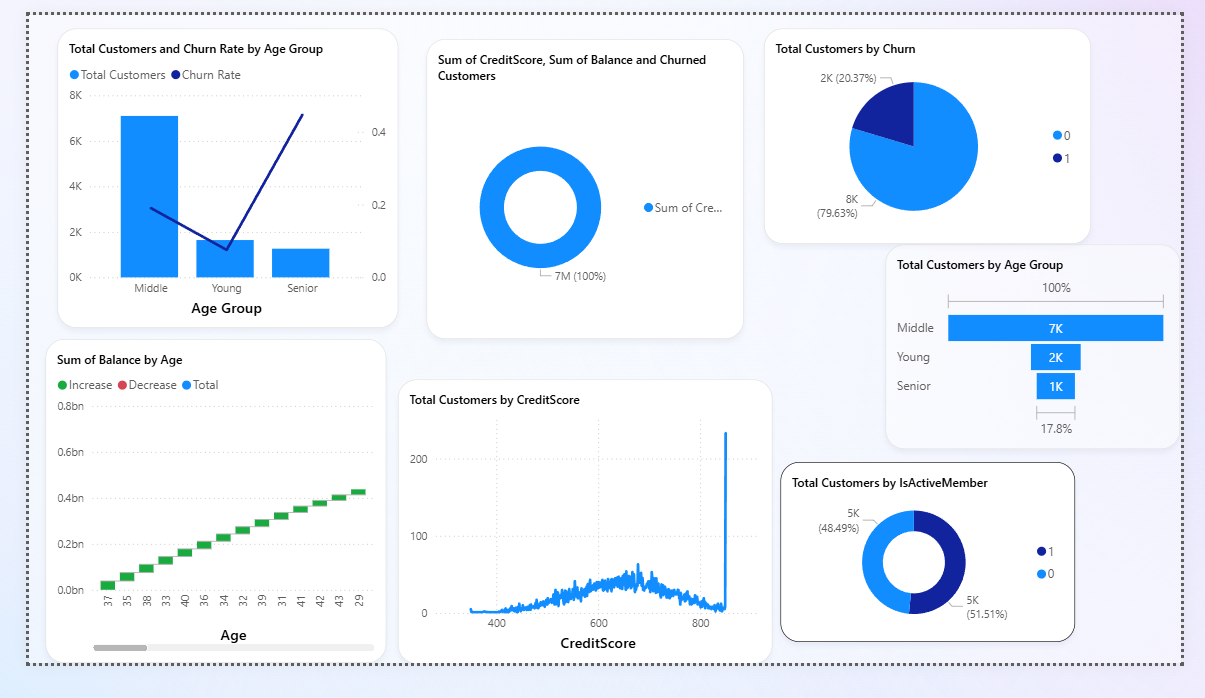

The dashboard page shown, as its layout file describes it:
{"tool":"powerbi","page":{"name":"Page 2","canvas":[1280,720],"ordinal":1},"visuals":[{"type":"lineStackedColumnComboChart","fields":{"Category":["Churn_Modelling.Age Group"],"Y":["Churn_Modelling.Total Customers"],"Y2":["Churn_Modelling.Churn Rate"]},"box":[31.4,15.7,378.6,332.9],"z":0},{"type":"waterfallChart","fields":{"Category":["Churn_Modelling.Age"],"Y":["Sum(Churn_Modelling.Balance)"]},"box":[18.6,360,378.6,360],"z":1000},{"type":"donutChart","fields":{"Y":["Sum(Churn_Modelling.CreditScore)","Sum(Churn_Modelling.Balance)","Churn_Modelling.Churned Customers"]},"box":[442.1,27.3,352.8,333.1],"z":2000},{"type":"lineChart","fields":{"Category":["Churn_Modelling.CreditScore"],"Y":["Churn_Modelling.Total Customers"]},"box":[410,404.3,415.7,315.7],"z":3000},{"type":"pieChart","fields":{"Category":["Churn_Modelling.Churn"],"Y":["Churn_Modelling.Total Customers"]},"box":[816.2,15.1,363.4,239.2],"z":4000},{"type":"funnel","fields":{"Category":["Churn_Modelling.Age Group"],"Y":["Churn_Modelling.Total Customers"]},"box":[952.4,254.4,327.1,227.1],"z":5000},{"type":"donutChart","fields":{"Category":["Churn_Modelling.IsActiveMember"],"Y":["Churn_Modelling.Total Customers"]},"box":[834.3,496.7,327.1,199.9],"z":6000}]}

Visuals, with their boxes in screenshot pixels (x1, y1, x2, y2), scaled from the page's 1280x720 canvas onto the 1205x698 screenshot:
lineStackedColumnComboChart - Churn_Modelling.Age Group x Churn_Modelling.Total Customers: locate(30, 15, 386, 338)
waterfallChart - Churn_Modelling.Age x Sum(Churn_Modelling.Balance): locate(18, 349, 374, 697)
donutChart - Sum(Churn_Modelling.CreditScore) x Sum(Churn_Modelling.Balance): locate(416, 26, 748, 349)
lineChart - Churn_Modelling.CreditScore x Churn_Modelling.Total Customers: locate(386, 392, 777, 697)
pieChart - Churn_Modelling.Churn x Churn_Modelling.Total Customers: locate(768, 15, 1110, 247)
funnel - Churn_Modelling.Age Group x Churn_Modelling.Total Customers: locate(897, 247, 1204, 467)
donutChart - Churn_Modelling.IsActiveMember x Churn_Modelling.Total Customers: locate(785, 482, 1093, 675)
